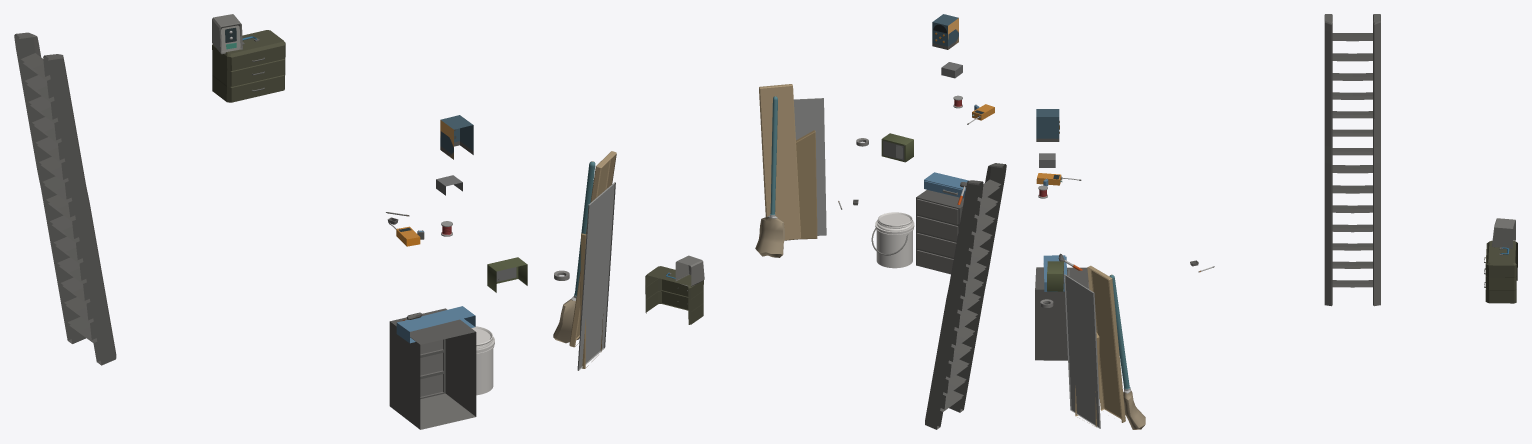
The model's file is ToolsnTech.fbx.
3 renders of one model, left to right at view 1: azimuth 30°, elevation 25°; view 2: azimuth 150°, elevation 25°; view 3: azimuth 270°, elevation 25°, orthographic. The views are drawn at different scales.
Visible parts, largest first — view 1: ladder, toolCabinet, sheetMetal, toolBox.01, broom, woodPlank.01, bucket, toolBox.02, techBox.01, techbox.02, techBox.03; view 2: ladder, woodPlank.01, toolCabinet, toolBox.01, sheetMetal, bucket, woodPlank.02, broom, techBox.01, techBox.03, toolBox.02, techbox.02; view 3: ladder, sheetMetal, woodPlank.01, toolCabinet, toolBox.01, broom, techBox.01, techbox.02, techBox.03.
Part boxes in pixels (x1,y1,x2,y2): ladder: [14, 32, 116, 365]; toolCabinet: [389, 308, 476, 429]; sheetMetal: [577, 182, 615, 370]; toolBox.01: [212, 30, 285, 102]; broom: [553, 161, 595, 343]; woodPlank.01: [569, 151, 616, 347]; bucket: [471, 326, 494, 395]; toolBox.02: [396, 306, 475, 343]; techBox.01: [440, 115, 473, 159]; techbox.02: [212, 14, 242, 54]; techBox.03: [487, 257, 527, 292]; ladder: [925, 163, 1006, 429]; woodPlank.01: [759, 84, 800, 240]; toolCabinet: [916, 190, 963, 274]; toolBox.01: [645, 266, 703, 324]; sheetMetal: [793, 98, 826, 235]; bucket: [871, 212, 914, 268]; woodPlank.02: [796, 130, 817, 239]; broom: [755, 96, 784, 257]; techBox.01: [932, 14, 958, 49]; techBox.03: [881, 133, 913, 162]; toolBox.02: [924, 172, 968, 198]; techbox.02: [675, 255, 704, 286]; ladder: [1324, 14, 1380, 306]; sheetMetal: [1064, 274, 1100, 428]; woodPlank.01: [1087, 265, 1125, 422]; toolCabinet: [1035, 267, 1089, 360]; toolBox.01: [1484, 240, 1517, 303]; broom: [1109, 274, 1145, 429]; techBox.01: [1036, 109, 1059, 141]; techbox.02: [1492, 218, 1515, 248]; techBox.03: [1047, 261, 1064, 291].
Size of the model in its own units: 28.66 by 19.96 by 32.83.
